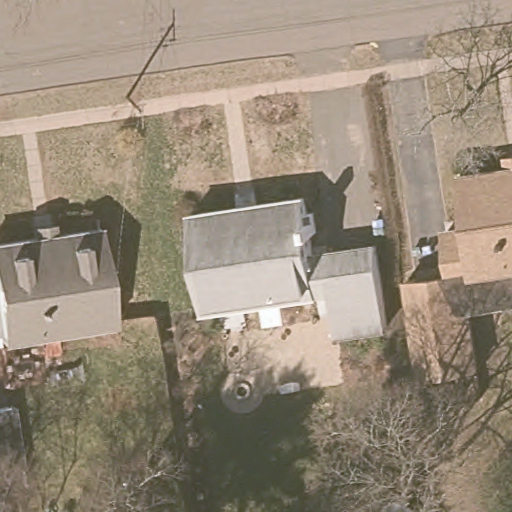DT: (125, 95, 148, 130)
